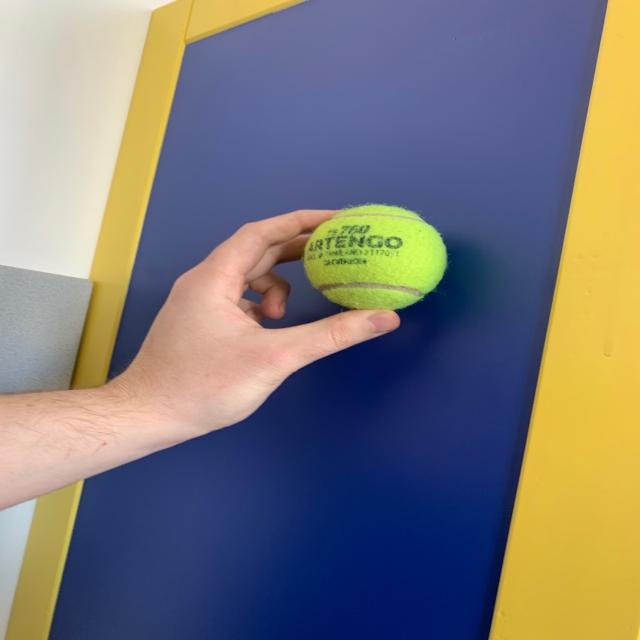Tennis-Ball: (304, 199, 450, 313)
